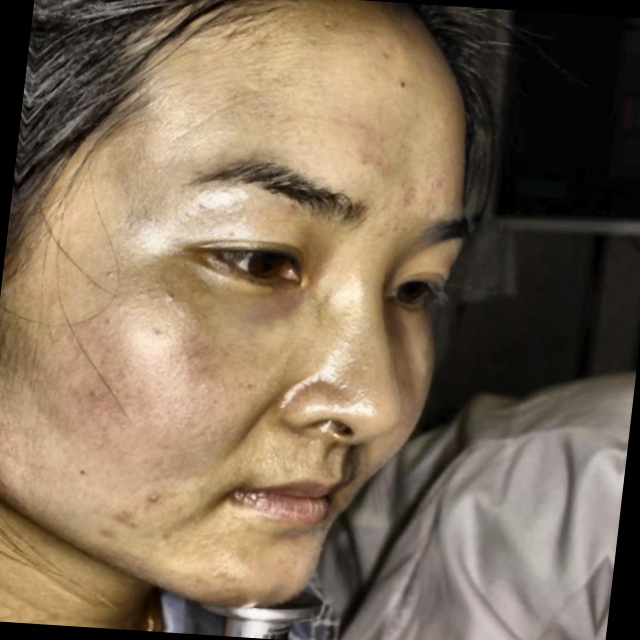comedone: (112, 504, 146, 535), (136, 487, 172, 514), (99, 520, 120, 543)
